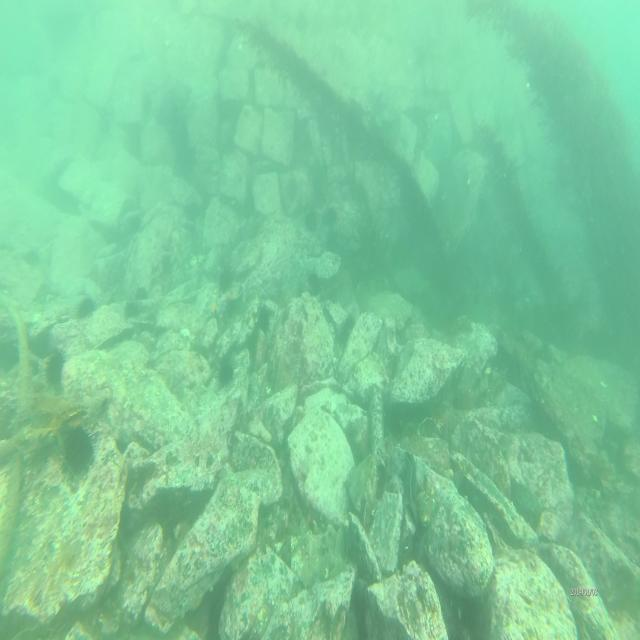echinus: (59, 418, 96, 476), (44, 348, 68, 387), (214, 352, 237, 390), (77, 296, 95, 321), (302, 206, 318, 231), (324, 203, 338, 228)
starfish: (204, 296, 220, 322)
